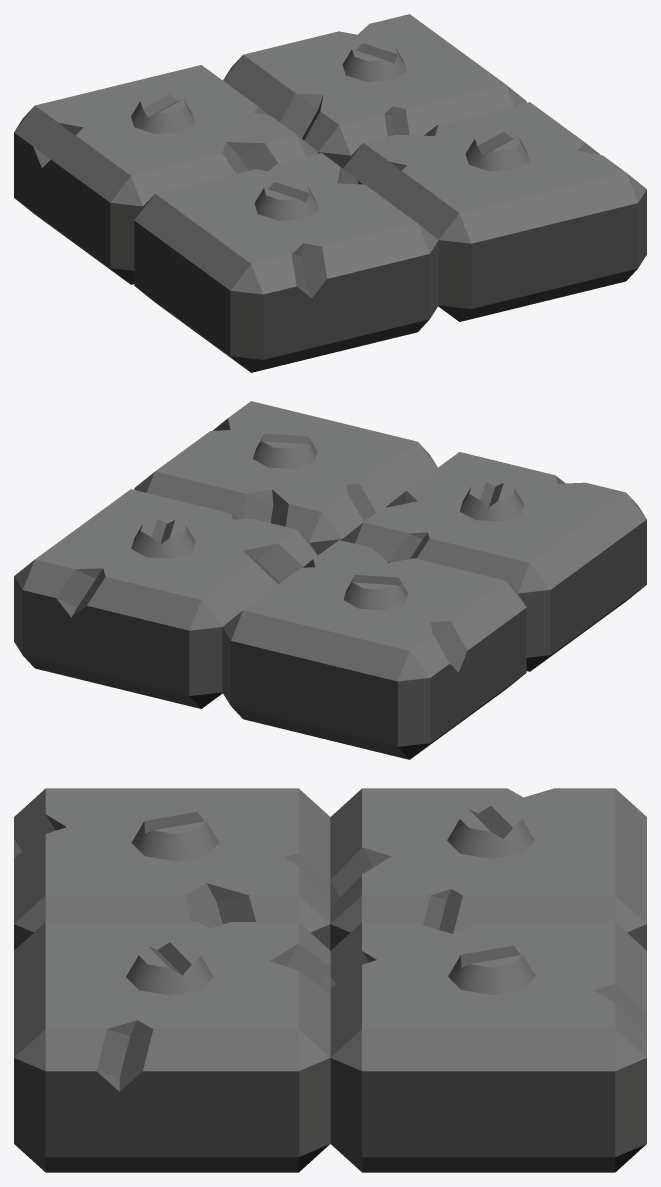
Rendered from m_kub_metalOld_flatFour.FBX.
3 views of the same model, one above another, from view 1: azimuth 30°, elevation 25°; view 2: azimuth 150°, elevation 25°; view 3: azimuth 270°, elevation 25° (orthographic). The views are drawn at different scales.
Parts seen in each view (by area): view 1: m_kub_metalOld_flatFour; view 2: m_kub_metalOld_flatFour; view 3: m_kub_metalOld_flatFour.
Part boxes in pixels (left/top/right/bottom): m_kub_metalOld_flatFour: left=14, top=14, right=646, bottom=372; m_kub_metalOld_flatFour: left=14, top=401, right=646, bottom=759; m_kub_metalOld_flatFour: left=14, top=788, right=646, bottom=1172.
Size of the model in its own units: 2 by 0.5761 by 2.
